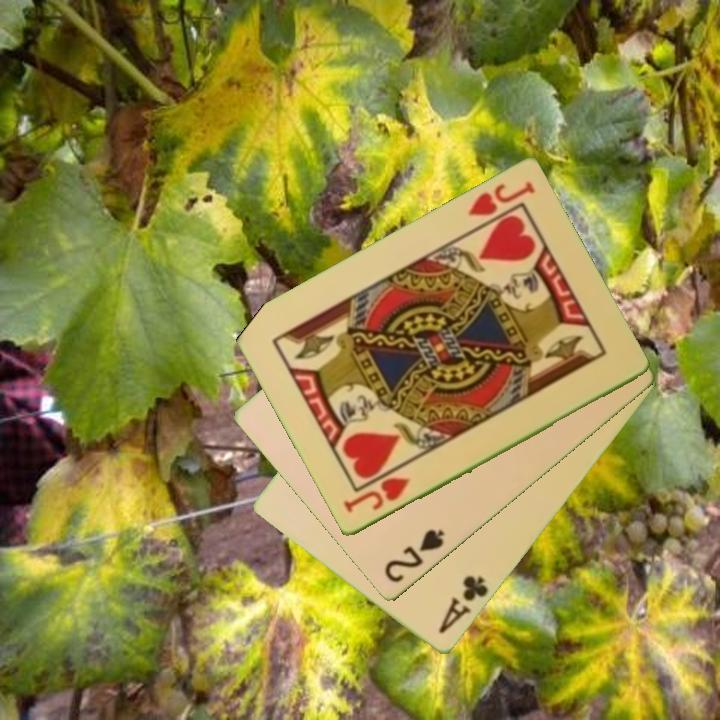2s: (381, 526, 447, 587)
Ac: (435, 572, 492, 637)
Jh: (339, 474, 413, 517), (464, 178, 538, 220)
